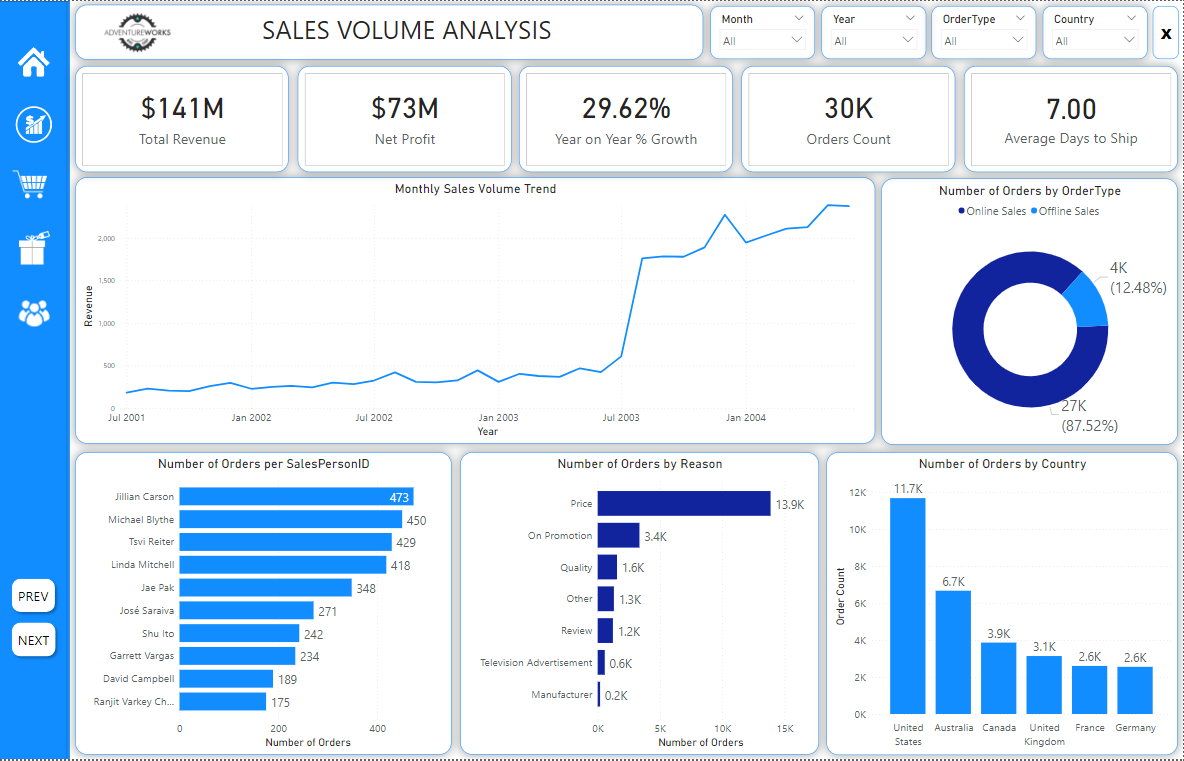

This screenshot's page, from the dashboard's own definition file:
{"tool":"powerbi","page":{"name":"Sales by Order Volume","canvas":[2000,1280],"ordinal":2},"visuals":[{"type":"group","id":"g1","title":"Group 1","box":[129.3,6.4,1059.6,92.9],"z":0,"group":"g2"},{"type":"textbox","box":[129.3,6.4,1059.6,92.9],"z":0,"group":"g1"},{"type":"image","box":[21.4,68.2,75,70],"z":0,"group":"g4"},{"type":"image","box":[15,170.7,88,75],"z":0,"group":"g5"},{"type":"image","box":[15.8,274.3,70.7,70.7],"z":0,"group":"g6"},{"type":"lineChart","title":"Monthly Sales Volume Trend","fields":{"Y":["CountNonNull(FactSales.# SalesOrderID)"],"Category":["DimDate.Date.Variation.Date Hierarchy.Year","DimDate.Date.Variation.Date Hierarchy.Month"]},"box":[128.8,298.2,1350,449.6],"z":0},{"type":"image","box":[27.2,495.1,63.4,63.4],"z":0,"group":"g3"},{"type":"slicer","title":"Month","fields":{"Values":["DimDate.Date.Variation.Date Hierarchy.Month"]},"box":[1200,8.3,177.1,89.6],"z":1000},{"type":"image","box":[160.6,13.9,146.9,77.8],"z":1000,"group":"g1"},{"type":"group","id":"g2","title":"Group 2","box":[129.3,6.4,1059.6,92.9],"z":2000},{"type":"clusteredBarChart","title":"Number of Orders per SalesPersonID","fields":{"Y":["_Measures.Orders Count"],"Category":["DimEmployee.EmployeeFullName"]},"box":[128.8,761.4,634.9,510.6],"z":3000},{"type":"shape","box":[0,0,119.5,1280.5],"z":4000},{"type":"donutChart","title":"Number of Orders by OrderType","fields":{"Category":["FactSales.OrderType"],"Y":["_Measures.Orders Count"]},"box":[1490.4,299,500.3,449.6],"z":5000},{"type":"shape","box":[0,0,115,1281.3],"z":6000},{"type":"clusteredBarChart","title":"Number of Orders by Reason","fields":{"Category":["DimSalesReason.Name"],"Y":["CountNonNull(FactSales.# SalesOrderID)"]},"box":[779.5,761.4,605.5,510.6],"z":7000},{"type":"slicer","fields":{"Values":["FactSales.OrderType"]},"box":[1575,8.3,177.1,89.6],"z":8000},{"type":"clusteredColumnChart","title":"Number of Orders by Country","fields":{"Category":["DimSalesTerritory.Name"],"Y":["CountNonNull(FactSales.# SalesOrderID)"]},"box":[1397.5,761.3,593.1,510.8],"z":9000},{"type":"slicer","fields":{"Values":["DimDate.Date.Variation.Date Hierarchy.Year"]},"box":[1387.5,8.3,177.1,89.6],"z":10000},{"type":"group","id":"g3","title":"Group 3","box":[27.2,495.1,63.4,63.4],"z":11000},{"type":"group","id":"g4","title":"Group 4","box":[21.4,68.2,75,70],"z":12000},{"type":"group","id":"g5","title":"Group 5","box":[15,170.7,87.8,73.2],"z":13000},{"type":"group","id":"g6","title":"Group 6","box":[15.8,274.3,70.7,70.7],"z":14000},{"type":"image","box":[16.3,382.9,85.4,70.7],"z":15000},{"type":"shape","box":[12.5,1039.6,91.7,75],"z":16000},{"type":"actionButton","box":[1947.9,8.3,43.8,89.6],"z":17000},{"type":"shape","box":[12.7,966.8,90.8,73.9],"z":18000},{"type":"slicer","fields":{"Values":["DimSalesTerritory.Name"]},"box":[1762.5,8.3,177.1,89.6],"z":19000},{"type":"cardVisual","title":"Total Revenue","fields":{"Data":["FactSales.Total Revenue"]},"box":[128.4,110.4,360,179.4],"z":20000},{"type":"cardVisual","title":"Total Revenue","fields":{"Data":["FactSales.OrdercOunt"]},"box":[1253.9,110.4,360.4,179.2],"z":21000},{"type":"cardVisual","title":"Total Revenue","fields":{"Data":["_Measures.YOY%"]},"box":[878.6,110.4,360.4,179.2],"z":22000},{"type":"cardVisual","title":"Total Revenue","fields":{"Data":["FactSales.Net Profit"]},"box":[503.3,110.4,360.4,179.2],"z":23000},{"type":"cardVisual","title":"Total Revenue","fields":{"Data":["FactSales.Avg. Days to Ship"]},"box":[1629.2,110.4,360.4,179.2],"z":24000}]}

Visuals, with their boxes on the page's 2000x1280 design canvas (x1, y1, x2, y2). These are canvas units, not pixel positions in the 1184x761 screenshot, which may show the page scaled, cropped or inside an application window:
"Group 1" group: 129, 6, 1189, 99
textbox: 129, 6, 1189, 99
image: 21, 68, 96, 138
image: 15, 171, 103, 246
image: 16, 274, 86, 345
"Monthly Sales Volume Trend" lineChart: 129, 298, 1479, 748
image: 27, 495, 91, 558
"Month" slicer: 1200, 8, 1377, 98
image: 161, 14, 308, 92
"Group 2" group: 129, 6, 1189, 99
"Number of Orders per SalesPersonID" clusteredBarChart: 129, 761, 764, 1272
shape: 0, 0, 120, 1280
"Number of Orders by OrderType" donutChart: 1490, 299, 1991, 749
shape: 0, 0, 115, 1281
"Number of Orders by Reason" clusteredBarChart: 780, 761, 1385, 1272
slicer - FactSales.OrderType: 1575, 8, 1752, 98
"Number of Orders by Country" clusteredColumnChart: 1398, 761, 1991, 1272
slicer - DimDate.Date.Variation.Date Hierarchy.Year: 1388, 8, 1565, 98
"Group 3" group: 27, 495, 91, 558
"Group 4" group: 21, 68, 96, 138
"Group 5" group: 15, 171, 103, 244
"Group 6" group: 16, 274, 86, 345
image: 16, 383, 102, 454
shape: 12, 1040, 104, 1115
actionButton: 1948, 8, 1992, 98
shape: 13, 967, 104, 1041
slicer - DimSalesTerritory.Name: 1762, 8, 1940, 98
"Total Revenue" cardVisual: 128, 110, 488, 290
"Total Revenue" cardVisual: 1254, 110, 1614, 290
"Total Revenue" cardVisual: 879, 110, 1239, 290
"Total Revenue" cardVisual: 503, 110, 864, 290
"Total Revenue" cardVisual: 1629, 110, 1990, 290
